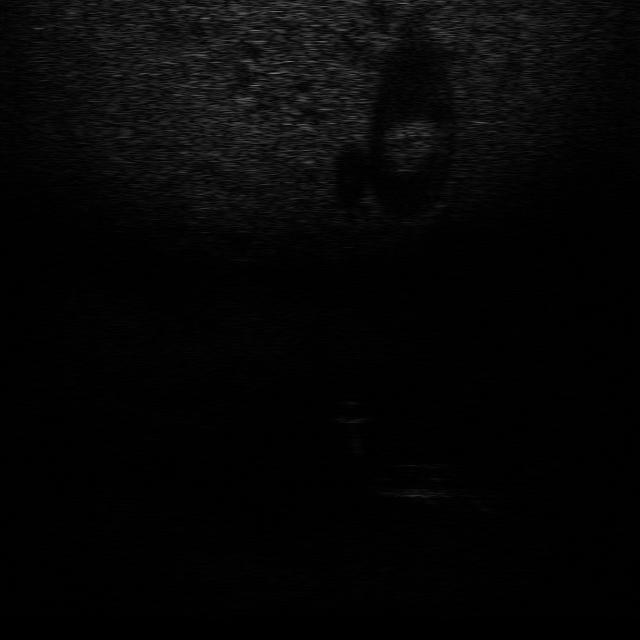ball: (326, 395, 375, 425)
tyre: (368, 460, 458, 499)
